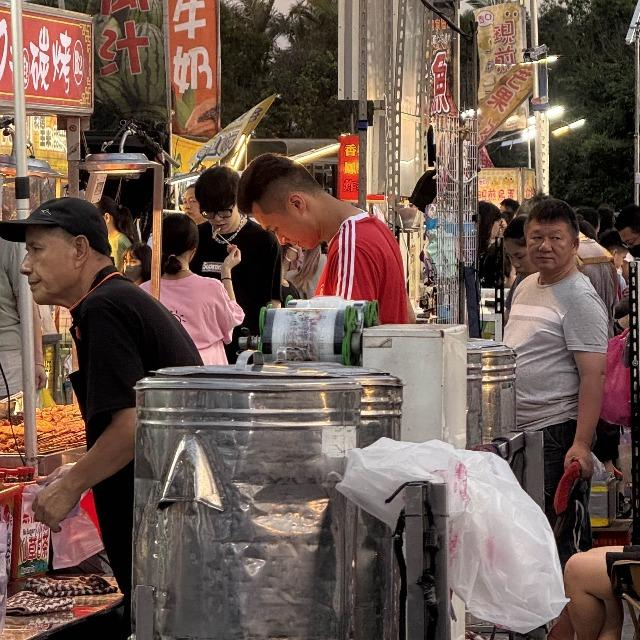NoHelmet: (238, 153, 322, 251), (522, 199, 584, 274), (193, 165, 239, 238)
NoVest: (505, 273, 610, 426)
